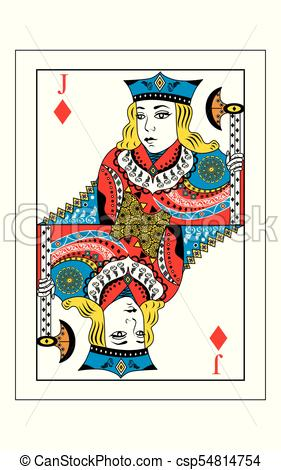jack of hearts: (14, 49, 265, 402)
